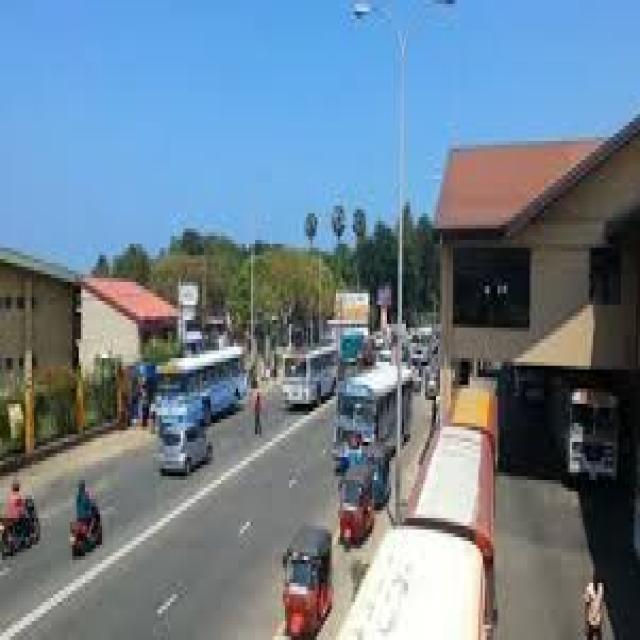bodaboda: (1, 504, 50, 552), (66, 517, 107, 570)
bus: (334, 362, 402, 452), (212, 332, 254, 415)
tuktuk: (275, 511, 336, 640), (336, 459, 382, 562)
